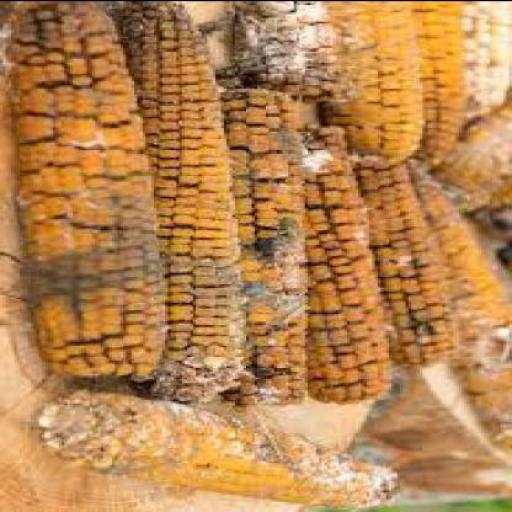biodegradable: (3, 1, 171, 372), (126, 0, 244, 399), (38, 385, 406, 507), (224, 85, 313, 402), (308, 121, 394, 402), (375, 158, 458, 368), (453, 156, 511, 448), (328, 2, 430, 156), (238, 0, 369, 96), (417, 1, 464, 158), (460, 2, 511, 114)
